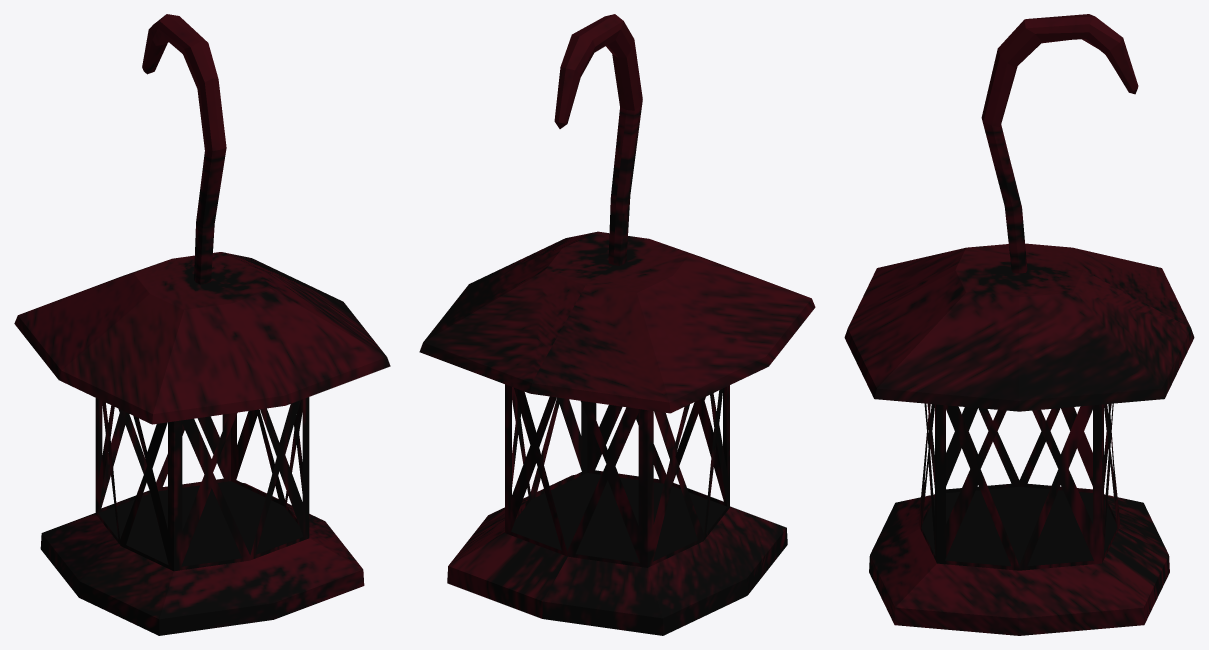
File: lampara.obj
The picture shows the model from 3 angles, left to right: view 1: azimuth 30°, elevation 25°; view 2: azimuth 150°, elevation 25°; view 3: azimuth 270°, elevation 25°; orthographic projection. The views are drawn at different scales.
Visible parts, largest first — view 1: Lantern_0; view 2: Lantern_0; view 3: Lantern_0.
Part boxes in pixels (x1,y1,x2,y2): Lantern_0: [14, 14, 390, 635]; Lantern_0: [419, 14, 815, 635]; Lantern_0: [844, 14, 1194, 635].
Bounding box in the file's own units: 0.4881 × 0.8556 × 0.4881.
